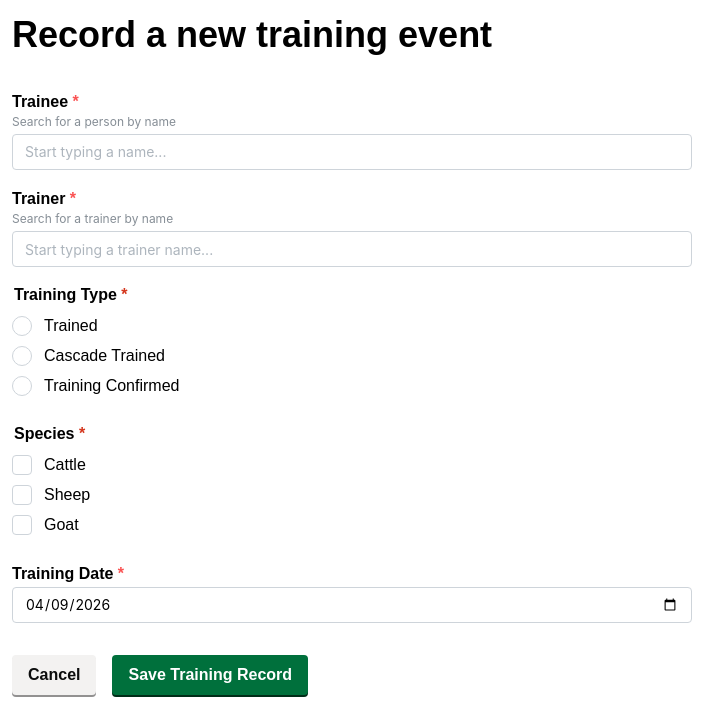
Test: RecordTrainingPage › shows validation errors when submitting with empty fields
# Clear the default date to trigger date validation
Clear the date field with test id "date-trained-input" at [352, 605], box [12,587,692,623]
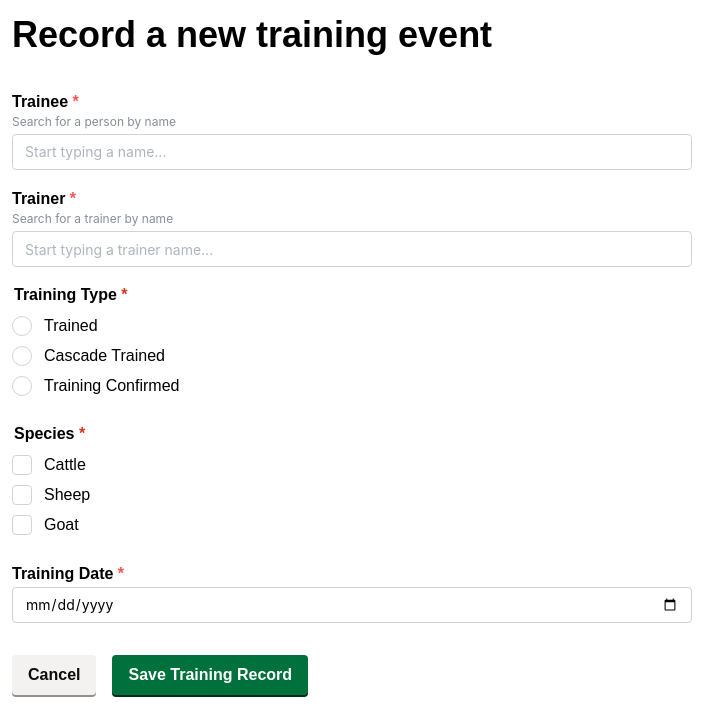
Click the button with test id "save-button" at [210, 675], box [112,655,308,695]
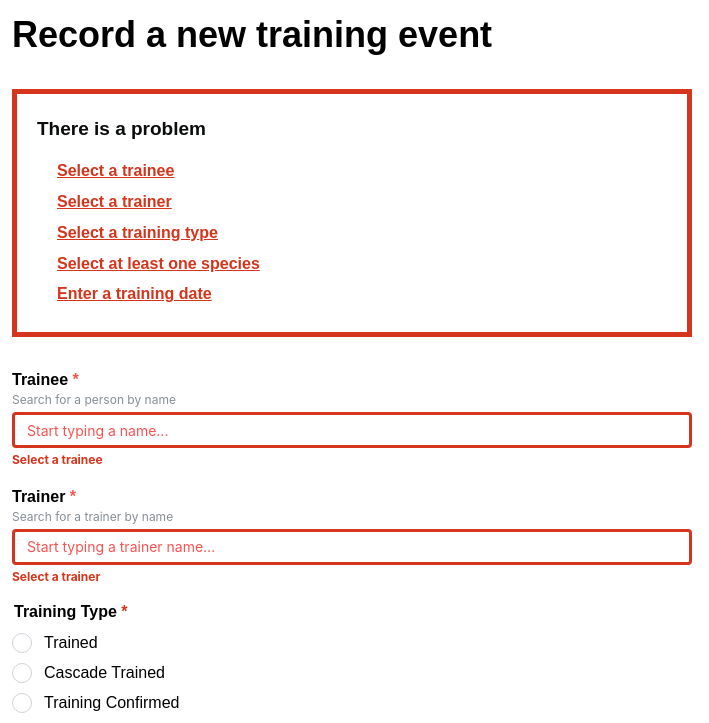
expect the message with test id "error-summary" is shown: met, box [12,89,692,337]
